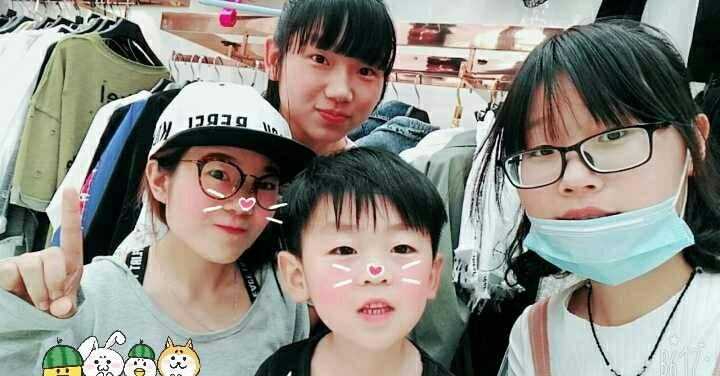NONE: (307, 222, 440, 345), (167, 153, 279, 259), (282, 40, 389, 136)
WRONG: (512, 98, 697, 283)
